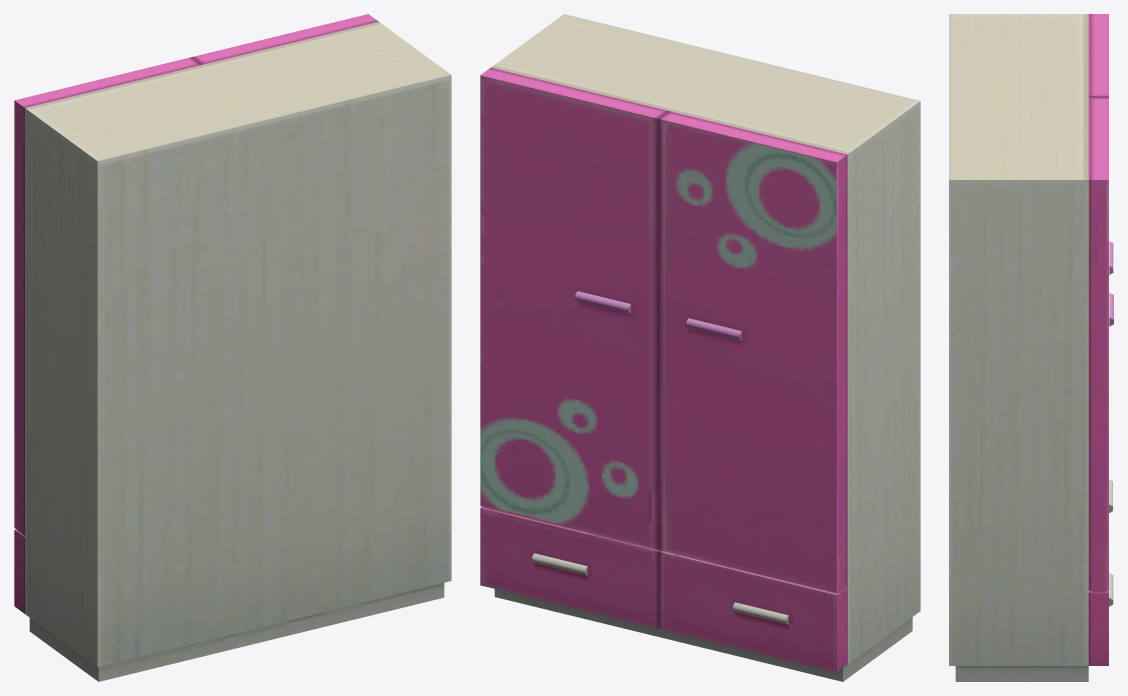
The model's file is furni_0200517_01.FBX.
3 renders of one model, left to right at view 1: azimuth 30°, elevation 25°; view 2: azimuth 150°, elevation 25°; view 3: azimuth 270°, elevation 25°, orthographic. The views are drawn at different scales.
Parts seen in each view (by area): view 1: furni_0200517_01; view 2: furni_0200517_01; view 3: furni_0200517_01.
Part boxes in pixels (left/top/right/bottom): furni_0200517_01: left=14, top=14, right=451, bottom=681; furni_0200517_01: left=480, top=14, right=920, bottom=681; furni_0200517_01: left=949, top=14, right=1113, bottom=681.
Size of the model in its own units: 155 by 220 by 65.18.
Materials: 1 (1 with a texture image).
